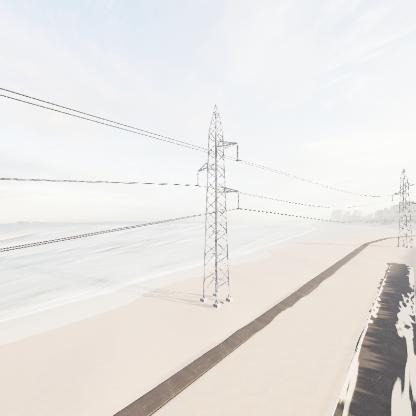tower: (193, 101, 246, 311), (389, 168, 416, 255)
